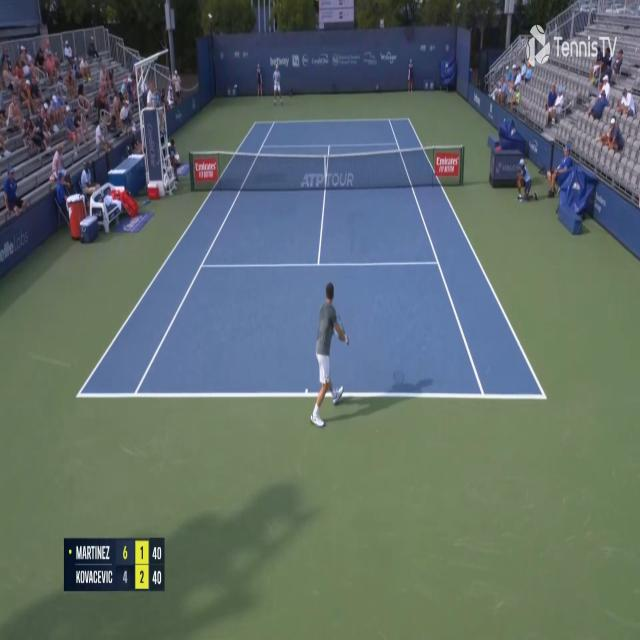tennis-player: (310, 278, 351, 430), (271, 62, 283, 107)
